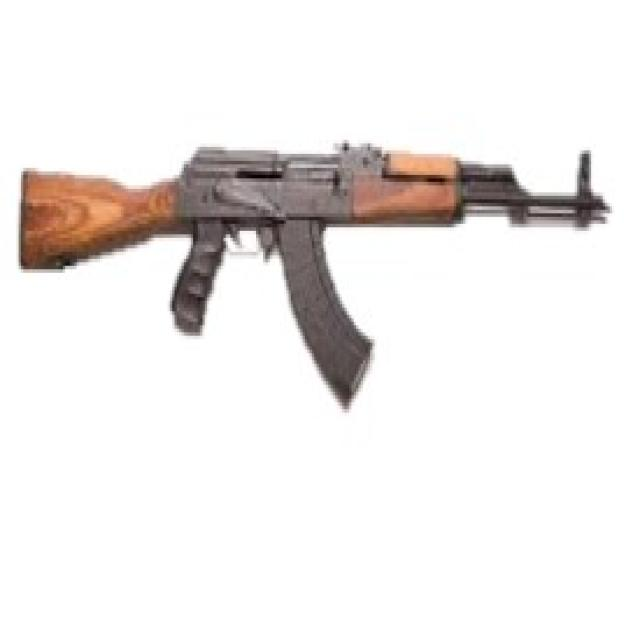rifle: (16, 129, 616, 410)
